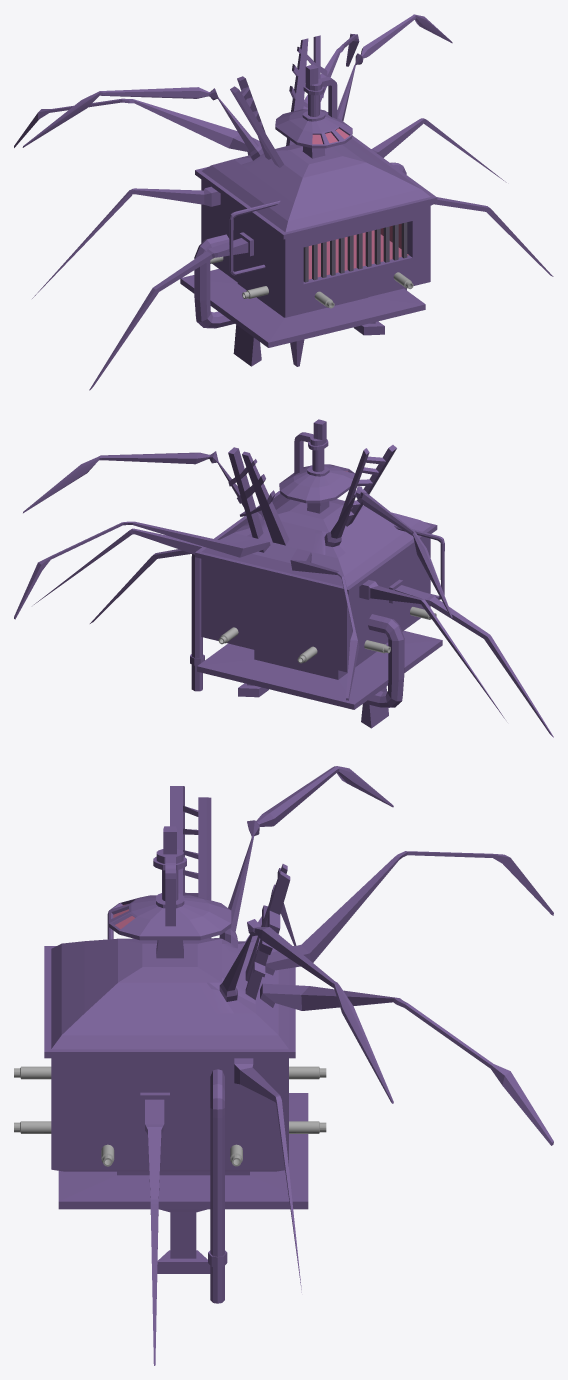
File: BossEdit2FBX.fbx
The picture shows the model from 3 angles, top to bottom: view 1: azimuth 30°, elevation 25°; view 2: azimuth 150°, elevation 25°; view 3: azimuth 270°, elevation 25°; orthographic projection. The views are drawn at different scales.
Parts seen in each view (by area): view 1: armAttachedBody_GEO, baseBody_GEO, rotateableBody_GEO, rotatableHead_GEO, furnaceInterior_GEO; view 2: armAttachedBody_GEO, baseBody_GEO, rotateableBody_GEO, rotatableHead_GEO; view 3: armAttachedBody_GEO, baseBody_GEO, rotateableBody_GEO, rotatableHead_GEO.
Part boxes in pixels (box(x1,y1,x2,y2)): armAttachedBody_GEO: box(14, 14, 553, 390); baseBody_GEO: box(180, 64, 425, 366); rotateableBody_GEO: box(201, 233, 430, 317); rotatableHead_GEO: box(275, 109, 352, 148); furnaceInterior_GEO: box(308, 223, 408, 279); armAttachedBody_GEO: box(14, 445, 553, 737); baseBody_GEO: box(190, 419, 442, 728); rotateableBody_GEO: box(201, 588, 430, 672); rotatableHead_GEO: box(279, 464, 354, 503); armAttachedBody_GEO: box(44, 766, 553, 1365); baseBody_GEO: box(58, 826, 308, 1303); rotateableBody_GEO: box(51, 1137, 288, 1171); rotatableHead_GEO: box(109, 893, 231, 940).
Bounding box in the file's own units: 22.76 × 12.76 × 15.7.
